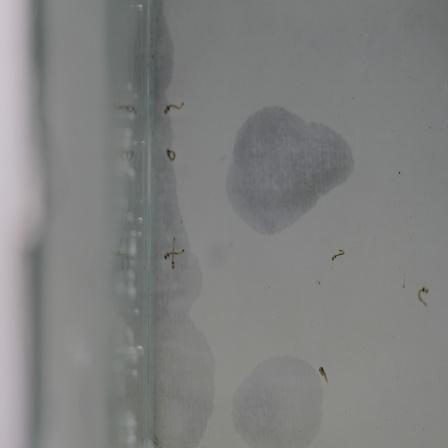Jentik-Nyamuk: (161, 233, 188, 272), (316, 359, 339, 385), (161, 97, 187, 119), (163, 142, 181, 167), (328, 246, 350, 263)
